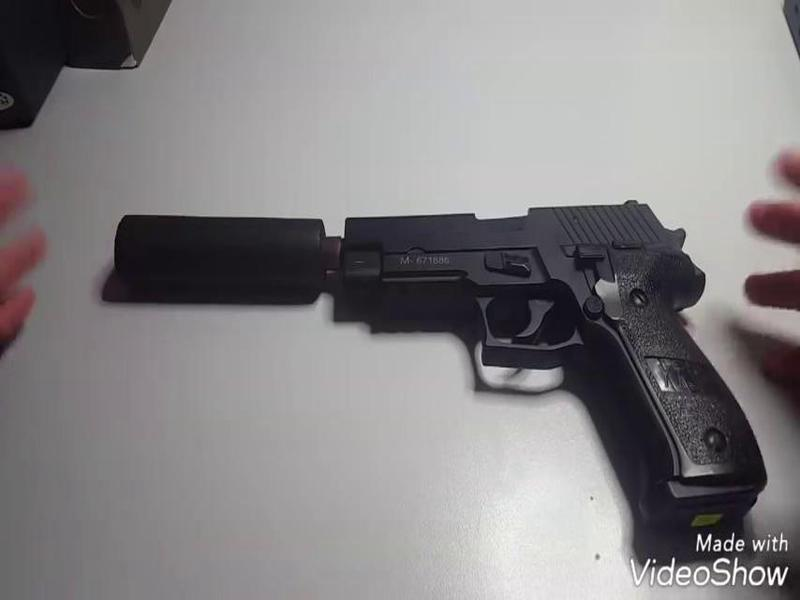Pistola: (108, 135, 772, 535)
